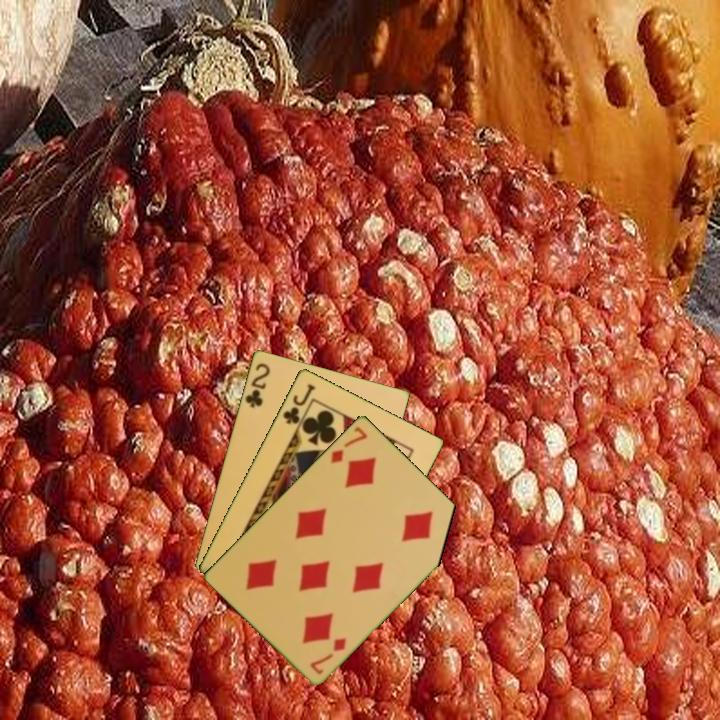2c: (241, 359, 273, 410)
7d: (327, 422, 370, 466), (307, 633, 350, 677)
Jc: (279, 380, 318, 427)
